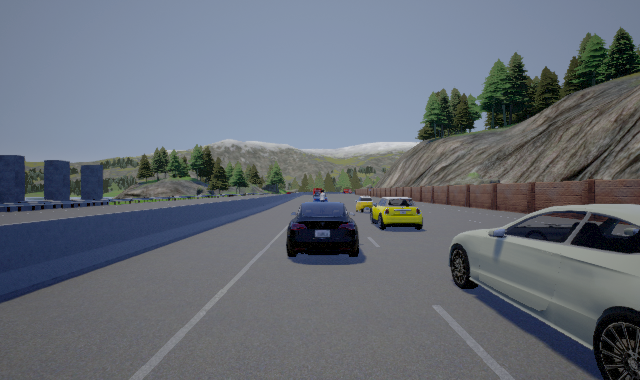vehicle: (448, 204, 640, 380), (286, 188, 359, 257), (355, 197, 423, 230)
